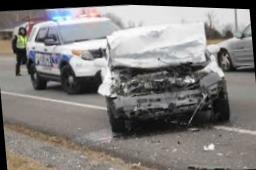Bonnet: (109, 19, 211, 78)
Bumper: (104, 77, 227, 115)
Light: (182, 66, 213, 87), (104, 78, 129, 93)
